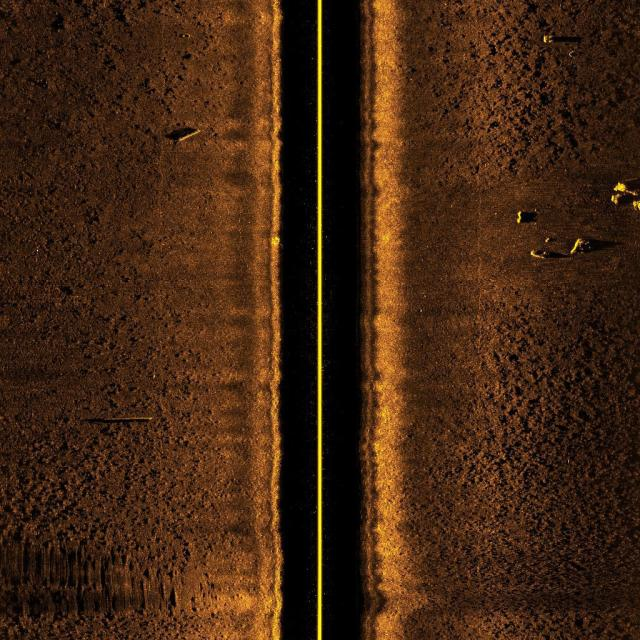mine: (160, 120, 206, 144), (80, 414, 158, 428)
other: (502, 198, 598, 271)
